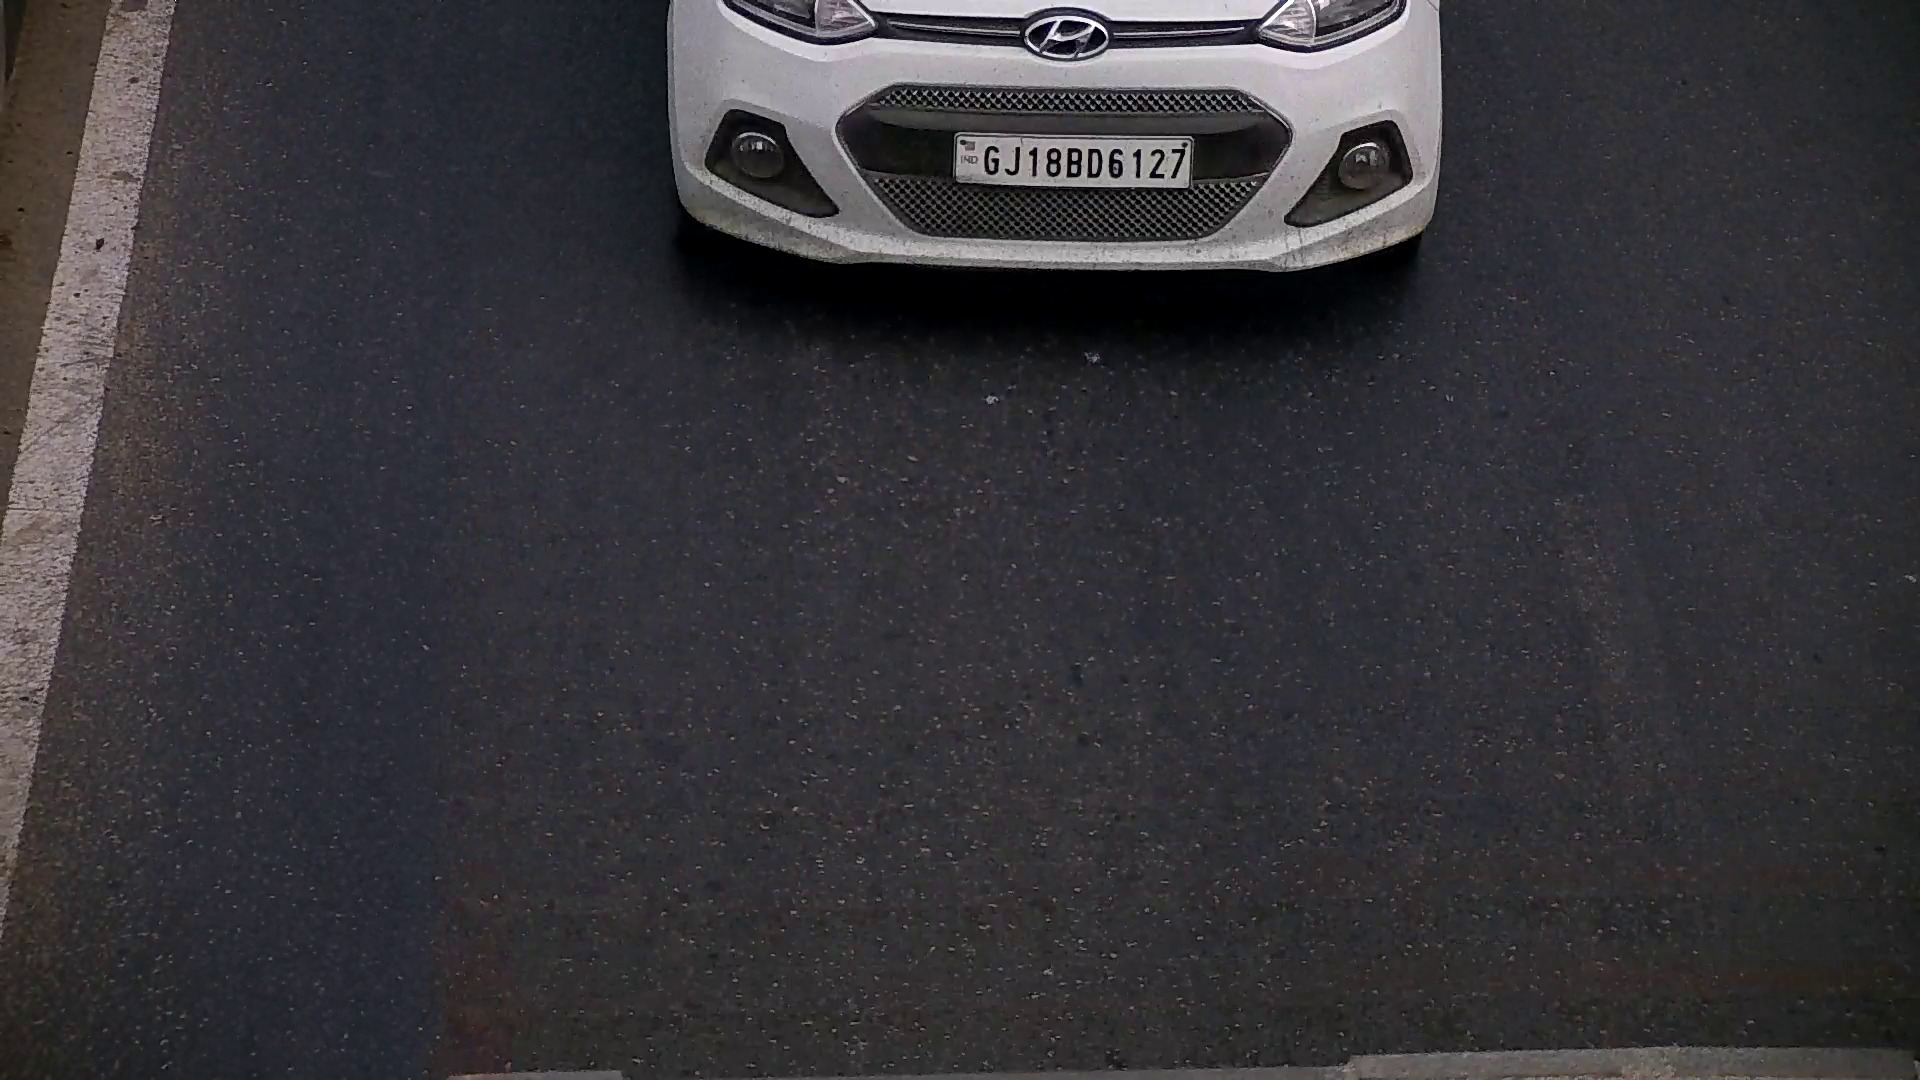numberplate: (949, 126, 1195, 194)
